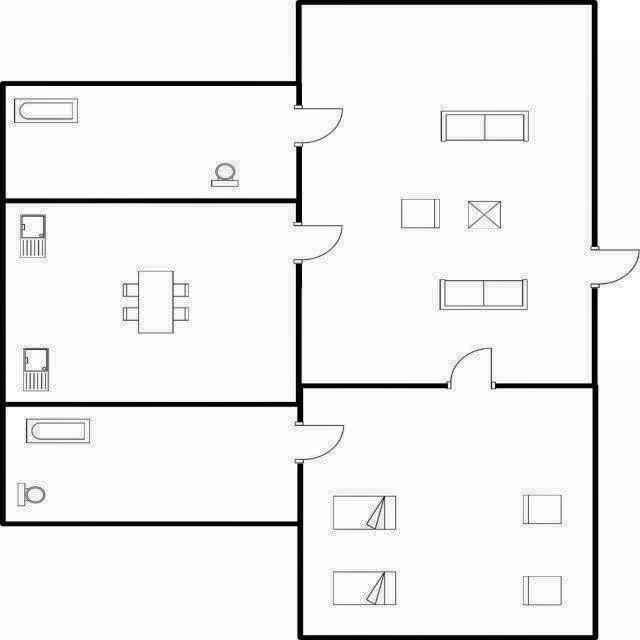room: (302, 5, 592, 383), (303, 388, 593, 635), (6, 203, 296, 402), (6, 407, 297, 521), (6, 86, 296, 198)
